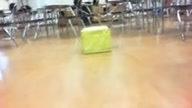cube: (81, 26, 112, 54)
